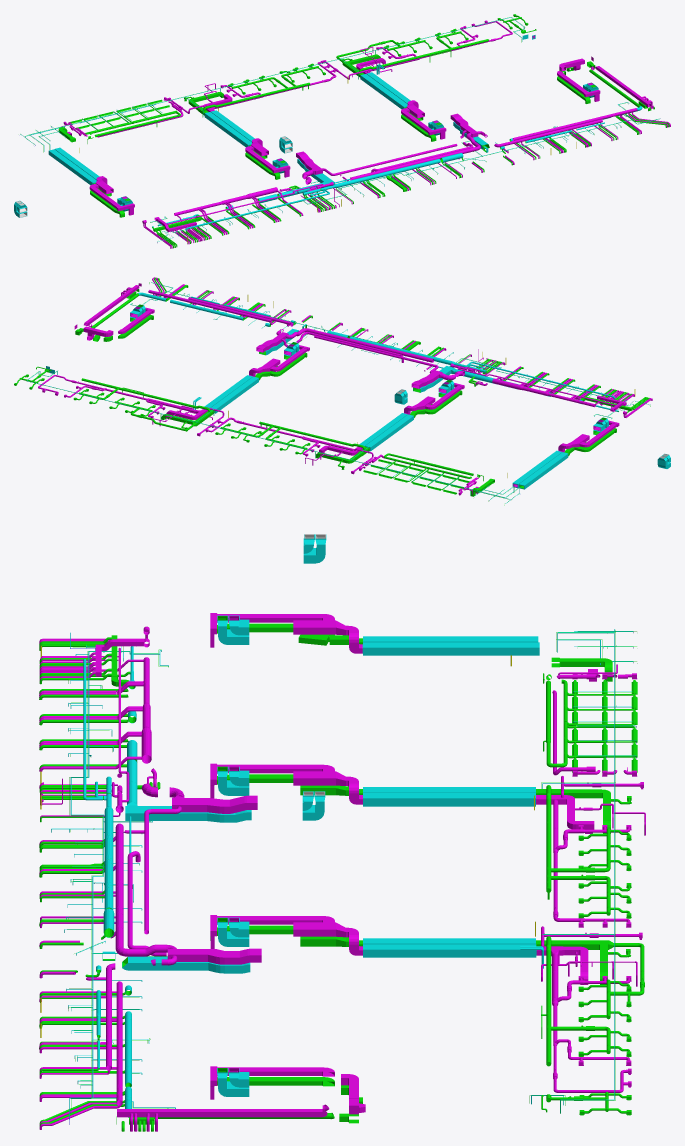
3 renders of one model, top to bottom at view 1: azimuth 30°, elevation 25°; view 2: azimuth 150°, elevation 25°; view 3: azimuth 270°, elevation 25°, orthographic. The views are drawn at different scales.
Parts seen in each view (by area): view 1: 1Dw6iOUEzDbPmkhTTcwCFd, 3hTpNNY5jDOQ2aYt3fnLjt, 1aE$HUi1PD$RhXhOjpmWhH, 0ljPnQ6rPB0xCrsCMfXgOp; view 2: 1Dw6iOUEzDbPmkhTTcwCFd, 3hTpNNY5jDOQ2aYt3fnLjt, 1aE$HUi1PD$RhXhOjpmWhH, 0ljPnQ6rPB0xCrsCMfXgOp; view 3: 1p0vY$mGv1AQ1EaATlbkED, 0QOToKmJ161gfwDPgPD9w7, 1ZGu248jz2efEulCbZ5aXK, 3uW9W$Vur9NhW2a8cbyGO8, 3hTpNNY5jDOQ2aYt3fnLjt, 1aE$HUi1PD$RhXhOjpmWhH, 1Dw6iOUEzDbPmkhTTcwCFd, 1E4Xsvmxj15uxquXsPDPzS.
Boxes of the visible parts, x1,y1,x2,y2 form: 1Dw6iOUEzDbPmkhTTcwCFd: (204, 112, 251, 147); 3hTpNNY5jDOQ2aYt3fnLjt: (49, 150, 96, 185); 1aE$HUi1PD$RhXhOjpmWhH: (360, 74, 407, 109); 0ljPnQ6rPB0xCrsCMfXgOp: (334, 144, 457, 175); 1Dw6iOUEzDbPmkhTTcwCFd: (365, 414, 413, 451); 3hTpNNY5jDOQ2aYt3fnLjt: (520, 452, 568, 488); 1aE$HUi1PD$RhXhOjpmWhH: (211, 376, 258, 413); 0ljPnQ6rPB0xCrsCMfXgOp: (314, 335, 435, 367); 1p0vY$mGv1AQ1EaATlbkED: (363, 642, 539, 655); 0QOToKmJ161gfwDPgPD9w7: (363, 793, 535, 806); 1ZGu248jz2efEulCbZ5aXK: (363, 944, 536, 957); 3uW9W$Vur9NhW2a8cbyGO8: (158, 1109, 322, 1117); 3hTpNNY5jDOQ2aYt3fnLjt: (363, 636, 535, 642); 1aE$HUi1PD$RhXhOjpmWhH: (363, 938, 535, 944); 1Dw6iOUEzDbPmkhTTcwCFd: (363, 787, 535, 792); 1E4Xsvmxj15uxquXsPDPzS: (128, 956, 207, 970).
Bounding box in the file's own units: 136 × 3.36 × 61.11.
